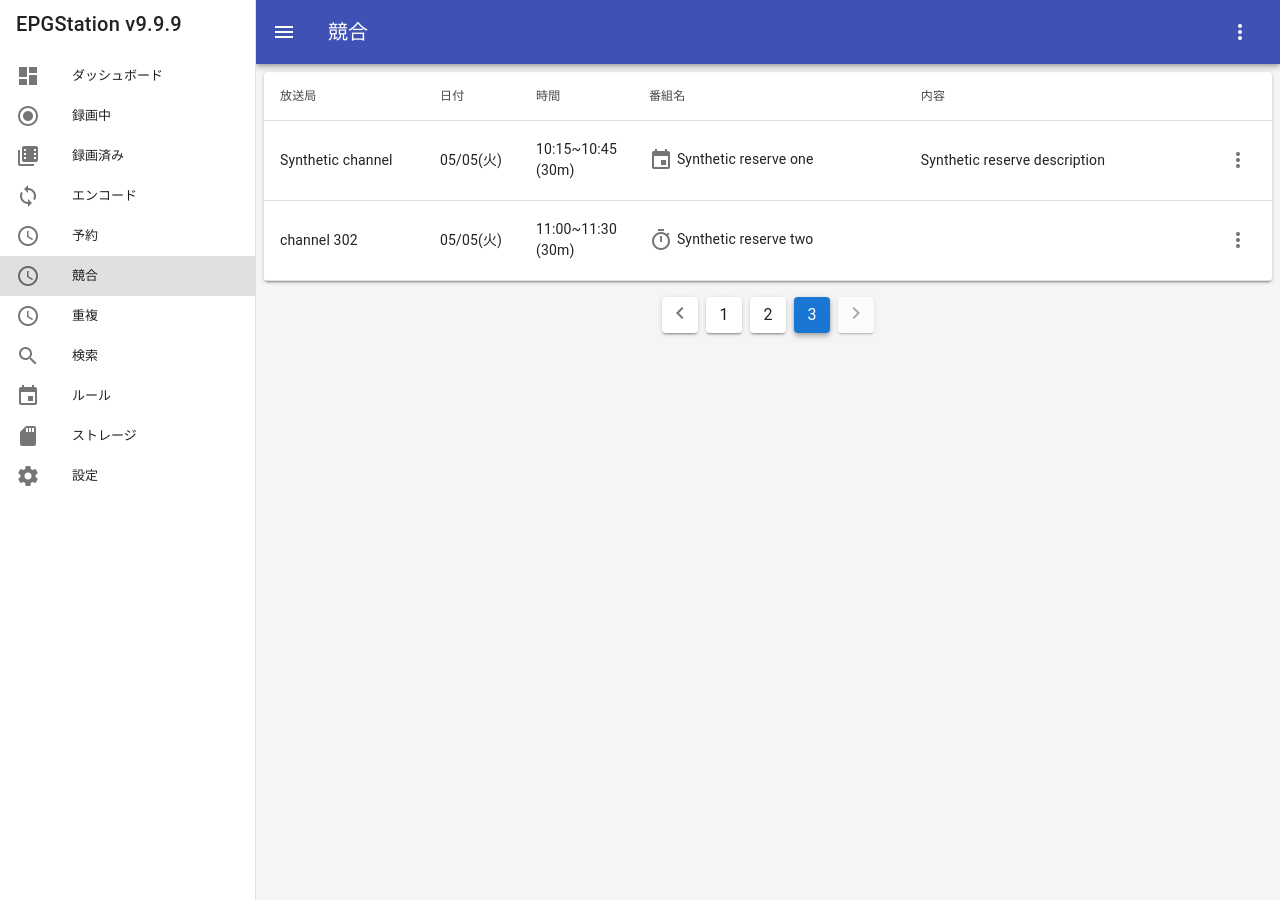
Scenario: Reserves delete, unlock and update actions › [AC 2.14] [AC 2.17] [AC 3.1] [AC 3.2] [AC 3.3] deletes a normal reserve through the single delete dialog and refreshes the list
expect the text "Synthetic reserve one" is shown: met, box left=677, top=151, right=814, bottom=167
Click the button named "予約メニュー: Synthetic reserve one": (1238, 160) left=1220, top=142, right=1256, bottom=178
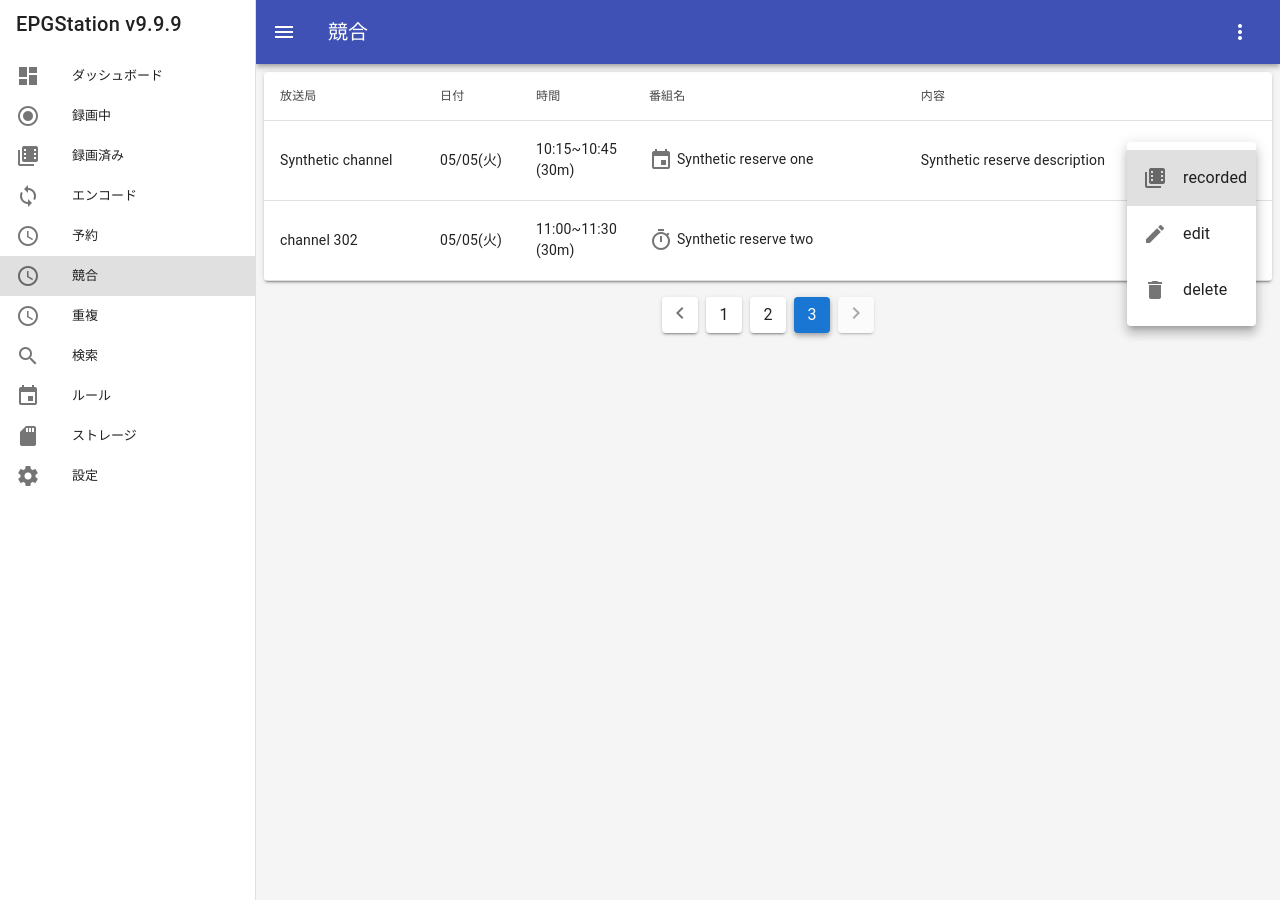
Click the menu item "delete": (1185, 290) left=1143, top=278, right=1228, bottom=302
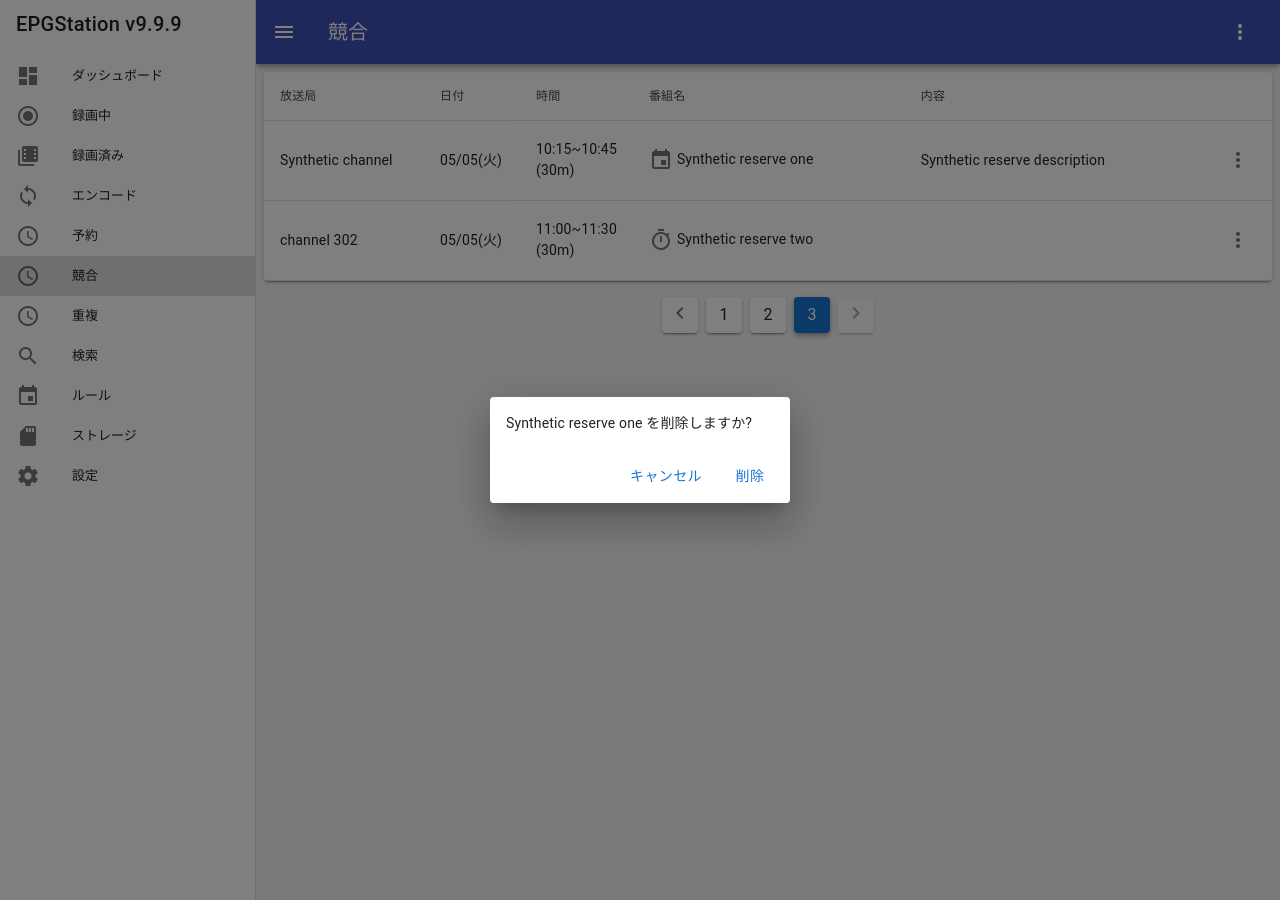
expect the dialog named "予約削除" shows "Synthetic reserve one を削除しますか?": met, box left=490, top=397, right=790, bottom=503
Click the button "削除": (750, 477) left=718, top=458, right=782, bottom=495
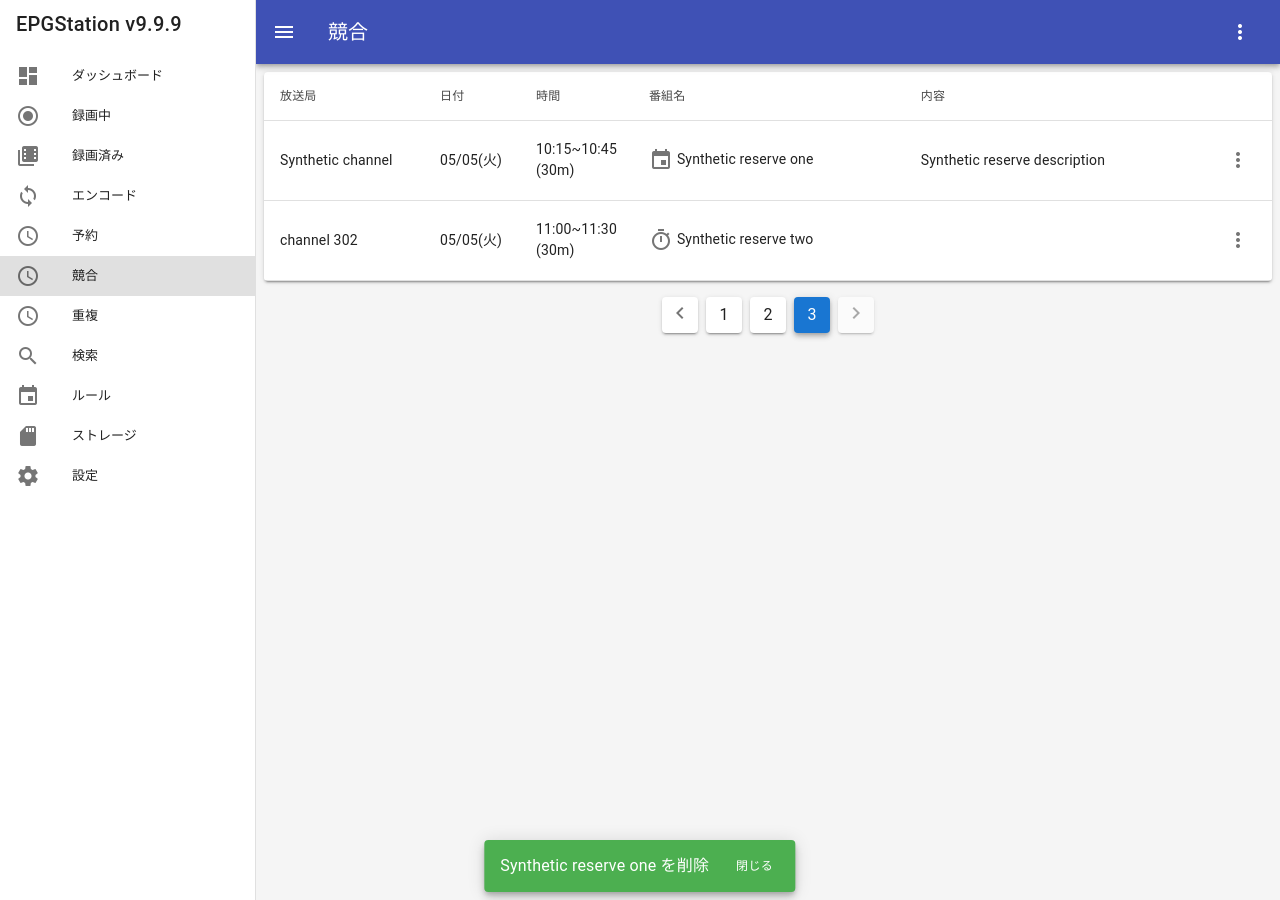
expect the text "Synthetic reserve one" is shown: met, box left=677, top=151, right=814, bottom=167
expect the message shows "Synthetic reserve one を削除": met, box left=500, top=856, right=709, bottom=875
